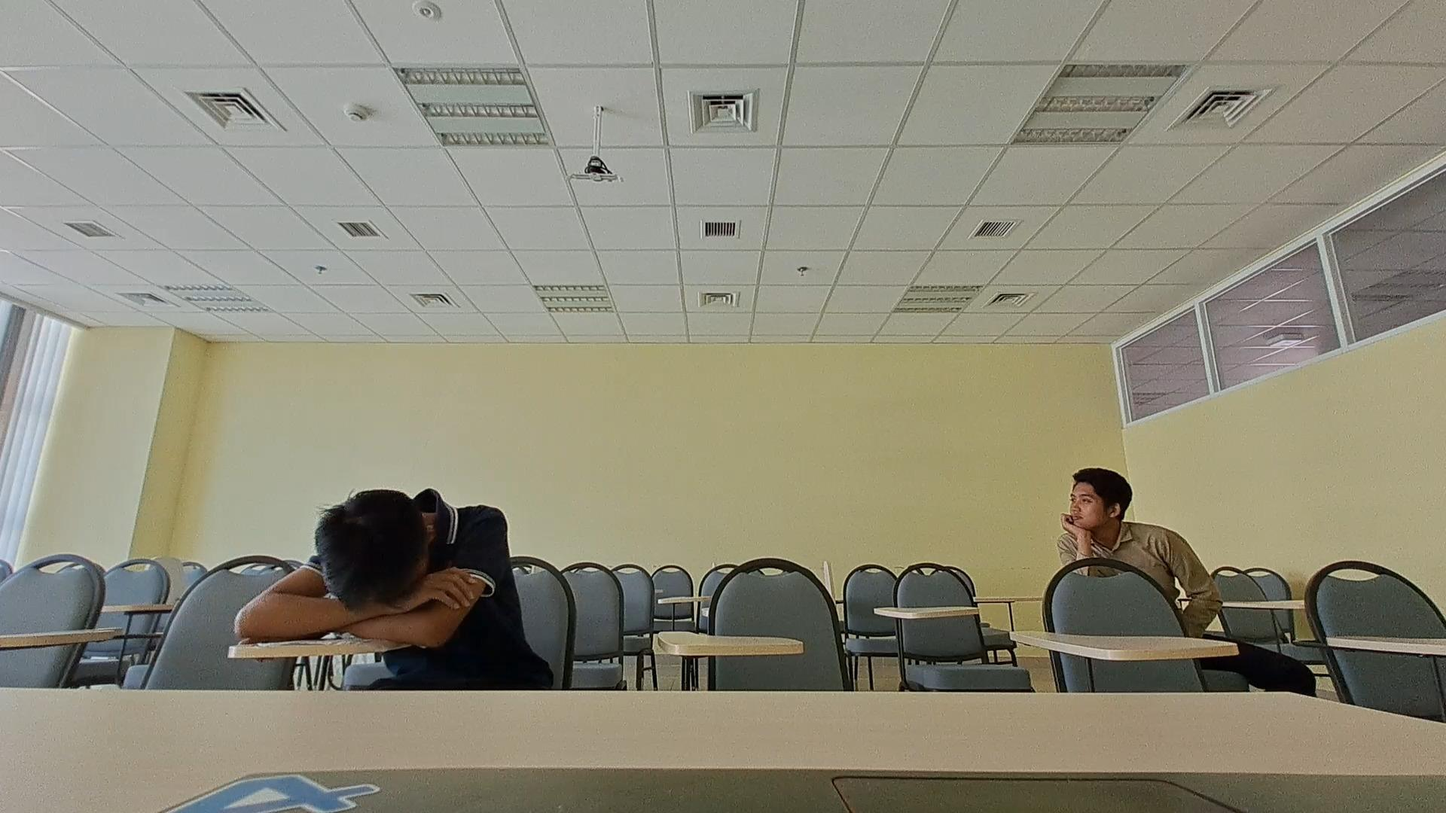sleep: (232, 482, 550, 696)
study: (1039, 457, 1192, 632)
